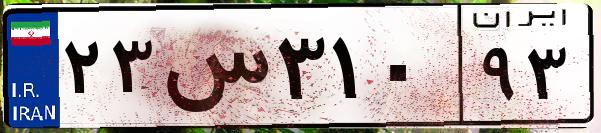0: (385, 28, 445, 110)
1: (330, 28, 385, 110)
2: (57, 26, 110, 100)
3: (270, 28, 330, 110), (525, 38, 570, 115), (110, 28, 158, 98)
9: (475, 38, 525, 113)
س: (158, 20, 270, 120)
